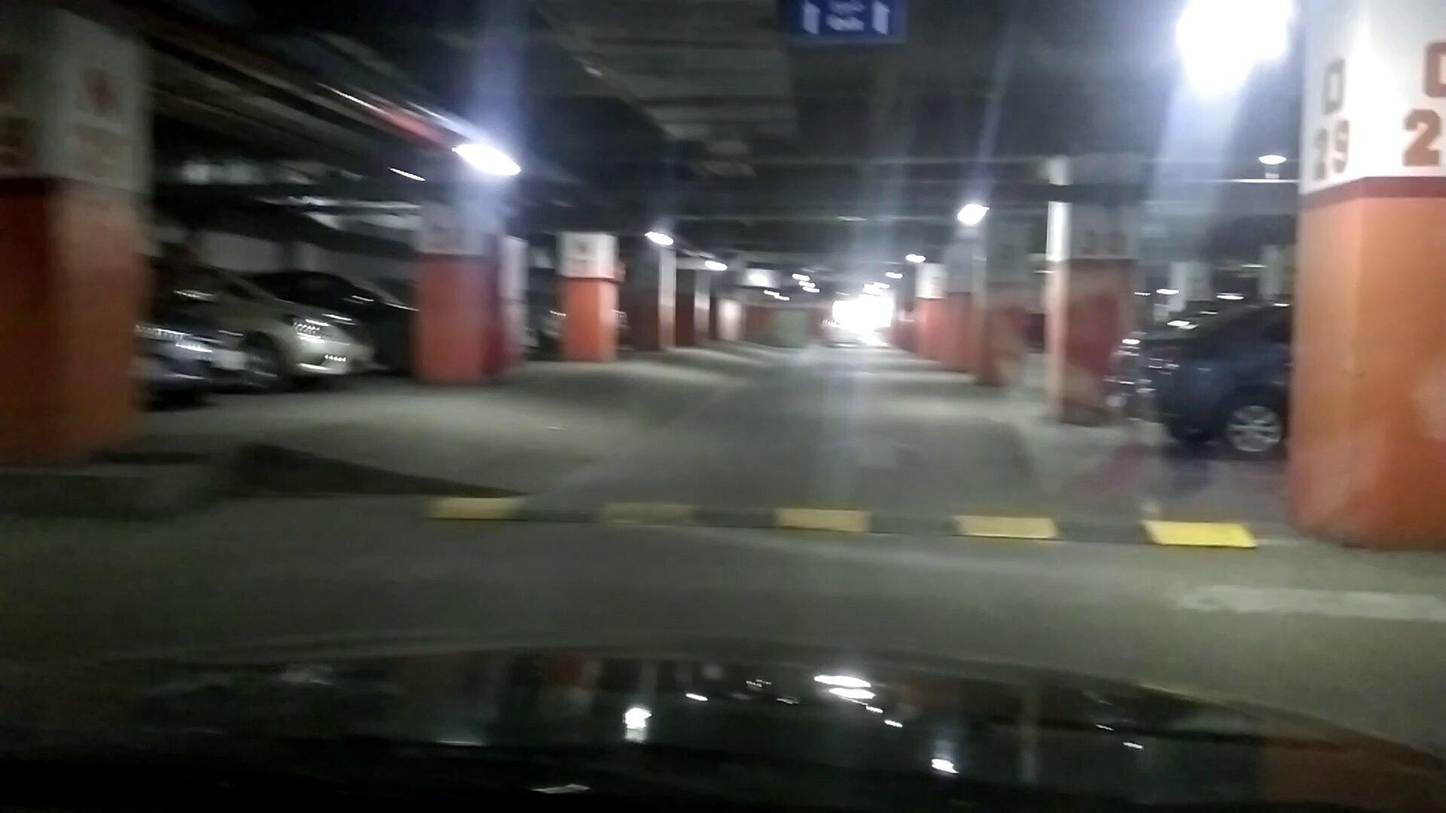Bump: (426, 494, 1260, 547)
